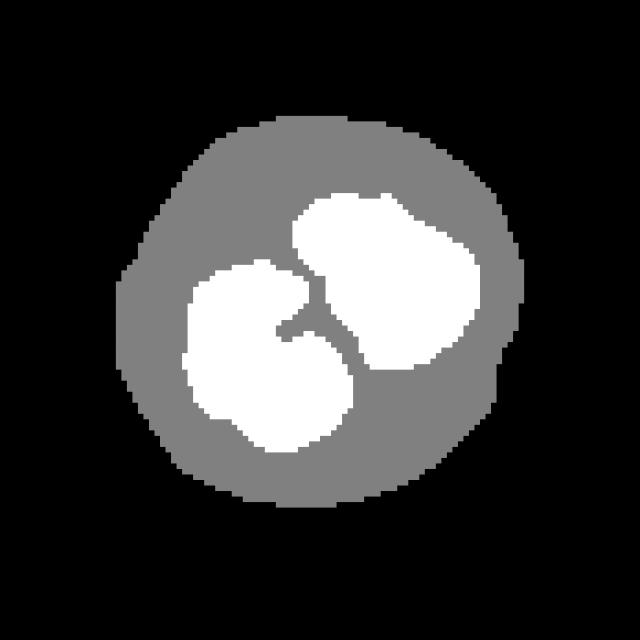WBC: (66, 88, 585, 524)
